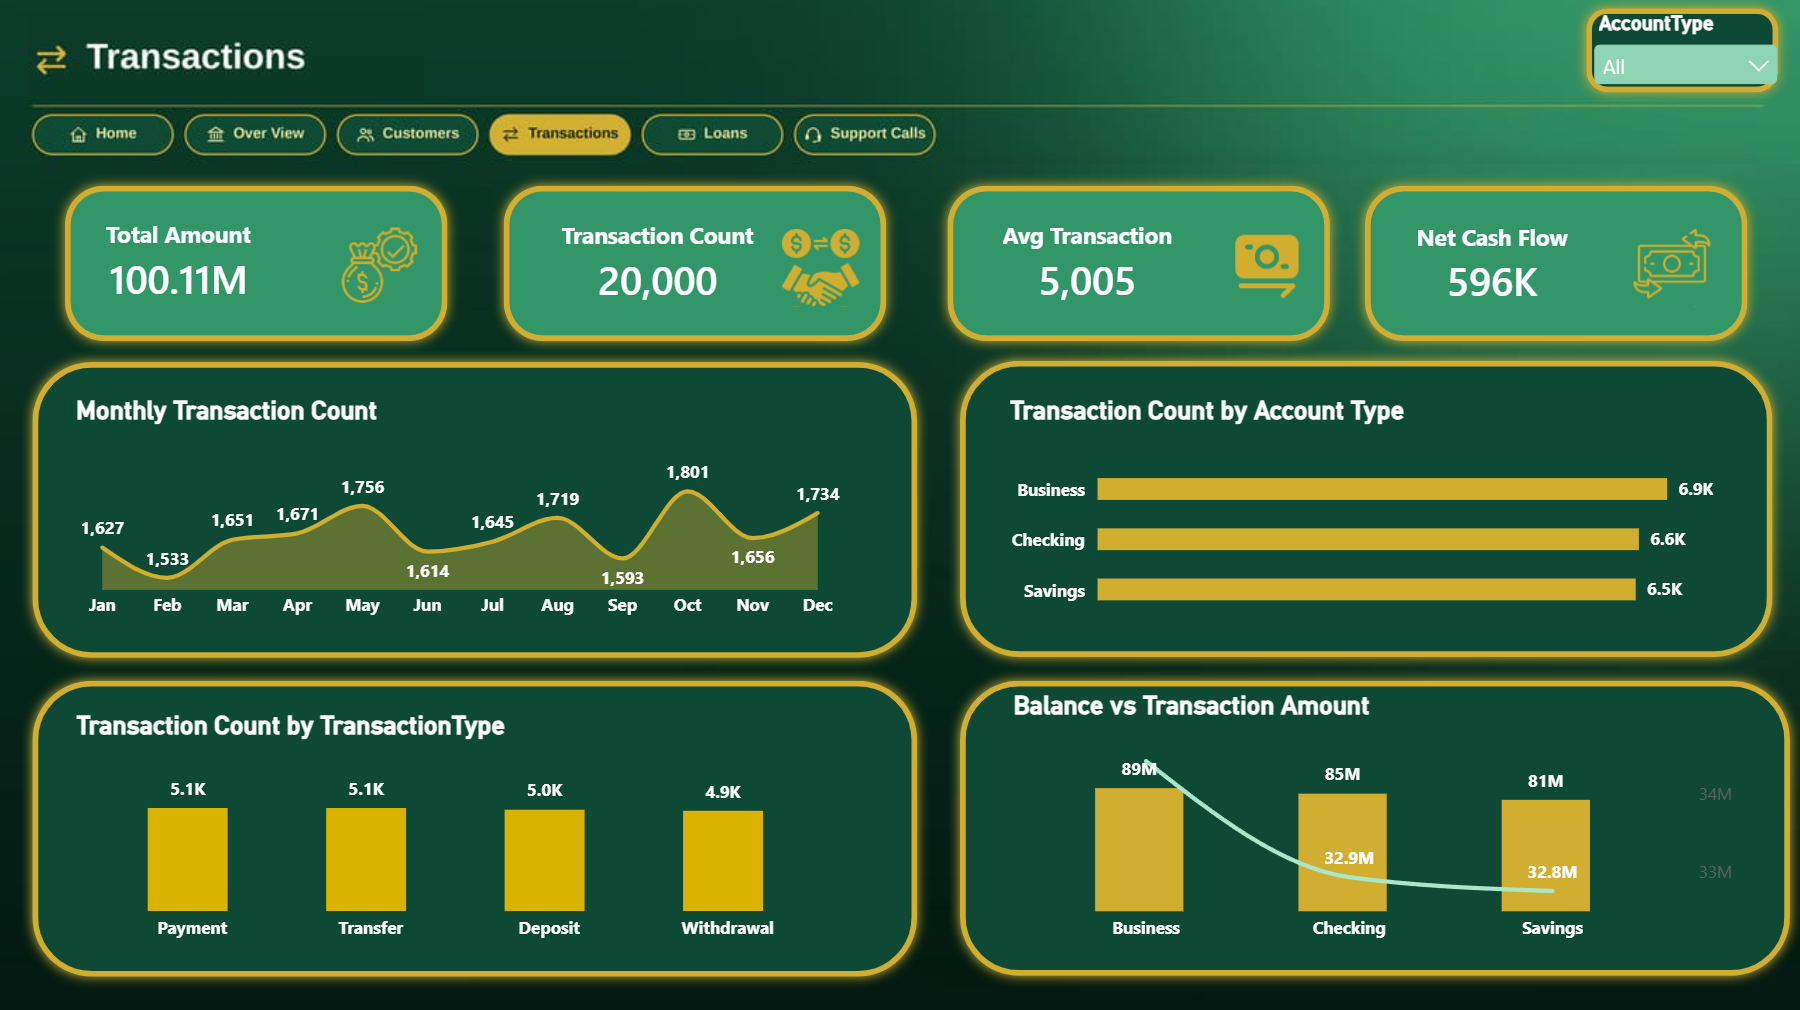

The page's visual inventory and layout, read from the dashboard file:
{"tool":"powerbi","page":{"name":"Transactions","canvas":[1280,720],"ordinal":3},"visuals":[{"type":"actionButton","box":[241,81.5,99.2,32.8],"z":0},{"type":"actionButton","box":[29.2,81.5,99.2,32.8],"z":1000},{"type":"actionButton","box":[135.5,81.5,99.2,32.8],"z":2000},{"type":"actionButton","box":[459.8,81.5,99.2,32.8],"z":3000},{"type":"actionButton","box":[567.9,81.5,99.2,32.8],"z":4000},{"type":"shape","box":[41.6,125.8,287,126],"z":4001},{"type":"shape","box":[352.6,125.8,287,126],"z":4002},{"type":"shape","box":[667.1,125.8,287,126],"z":4003},{"type":"shape","box":[963,125.8,287,126],"z":4004},{"type":"shape","box":[18.6,250.7,642.9,225.6],"z":4005},{"type":"shape","box":[18.6,476.6,642.9,225.6],"z":4006},{"type":"shape","box":[676,249.8,591.8,225.9],"z":4007},{"type":"shape","box":[676,476.6,604.2,225],"z":4008},{"type":"cardVisual","fields":{"Data":["_Measures.Total Transaction Amount"]},"box":[74.4,140,221.5,96.6],"z":4009},{"type":"cardVisual","fields":{"Data":["_Measures.Transaction Count"]},"box":[397.8,140,195.8,96.6],"z":4010},{"type":"cardVisual","fields":{"Data":["_Measures.Avg Transaction Amount"]},"box":[703.4,140,214.4,96.6],"z":4011},{"type":"cardVisual","fields":{"Data":["_Measures.Net Cash Flow"]},"box":[1023.3,140,166.6,96.6],"z":4012},{"type":"lineChart","title":"Monthly Transaction Count","fields":{"Category":["Calender.Month Name"],"Y":["_Measures.Transaction Count"]},"box":[41.6,267.6,575.9,192.2],"z":4013},{"type":"columnChart","fields":{"Category":["Transactions.TransactionType"],"Y":["_Measures.Transaction Count"]},"box":[41.6,490.8,575.9,197.6],"z":4014},{"type":"barChart","title":"\tTransaction Count by Account Type","fields":{"Category":["Accounts.AccountType"],"Y":["_Measures.Total Transaction"]},"box":[703.4,267.6,530.7,192.2],"z":4015},{"type":"lineClusteredColumnComboChart","title":"Balance vs Transaction Amount","fields":{"Category":["Accounts.AccountType"],"Y":["_Measures.Total Balance"],"Y2":["_Measures.Total Transaction Amount"]},"box":[705.9,476.2,543.5,212],"z":4016},{"type":"shape","box":[1119.7,0,152,75.5],"z":4017},{"type":"slicer","fields":{"Values":["Accounts.AccountType"]},"box":[1128.7,9.7,139.1,55.8],"z":4018}]}

Visuals, with their boxes in screenshot pixels (x1, y1, x2, y2), scaled from the page's 1280x720 canvas onto the 1800x1010 screenshot:
actionButton: <region>339, 114, 478, 160</region>
actionButton: <region>41, 114, 181, 160</region>
actionButton: <region>191, 114, 330, 160</region>
actionButton: <region>647, 114, 786, 160</region>
actionButton: <region>799, 114, 938, 160</region>
shape: <region>58, 176, 462, 353</region>
shape: <region>496, 176, 899, 353</region>
shape: <region>938, 176, 1342, 353</region>
shape: <region>1354, 176, 1758, 353</region>
shape: <region>26, 352, 930, 668</region>
shape: <region>26, 669, 930, 985</region>
shape: <region>951, 350, 1783, 667</region>
shape: <region>951, 669, 1799, 984</region>
cardVisual - _Measures.Total Transaction Amount: <region>105, 196, 416, 332</region>
cardVisual - _Measures.Transaction Count: <region>559, 196, 835, 332</region>
cardVisual - _Measures.Avg Transaction Amount: <region>989, 196, 1291, 332</region>
cardVisual - _Measures.Net Cash Flow: <region>1439, 196, 1673, 332</region>
"Monthly Transaction Count" lineChart: <region>58, 375, 868, 645</region>
columnChart - Transactions.TransactionType x _Measures.Transaction Count: <region>58, 688, 868, 966</region>
"	Transaction Count by Account Type" barChart: <region>989, 375, 1735, 645</region>
"Balance vs Transaction Amount" lineClusteredColumnComboChart: <region>993, 668, 1757, 965</region>
shape: <region>1575, 0, 1788, 106</region>
slicer - Accounts.AccountType: <region>1587, 14, 1783, 92</region>
